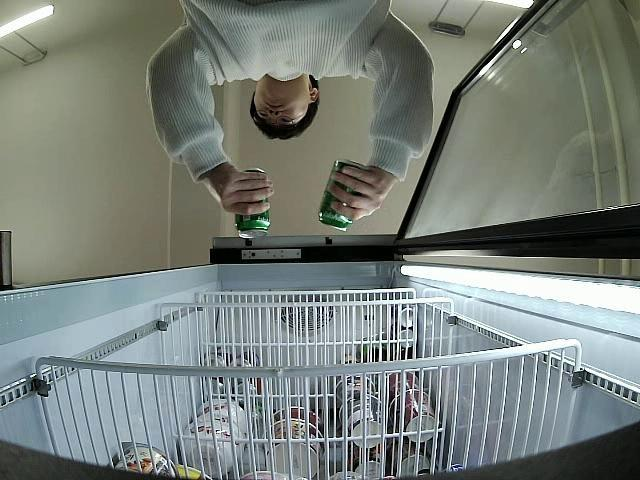12_chilsungCider: (316, 158, 367, 232), (234, 166, 271, 237)
